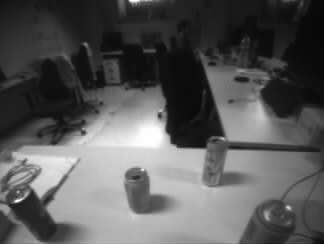Tin can: (9, 186, 55, 238), (239, 201, 293, 244), (202, 136, 227, 185), (126, 167, 151, 212)
